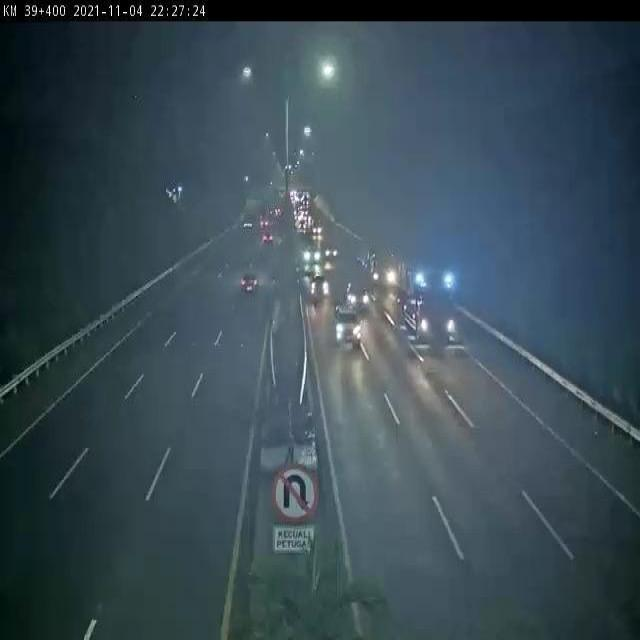car: (332, 304, 362, 345), (345, 278, 369, 306), (308, 276, 329, 301), (240, 272, 261, 295)
mid truck: (302, 242, 321, 266)
truck-m-: (395, 257, 457, 344)
truck-xl-: (355, 243, 398, 288)
